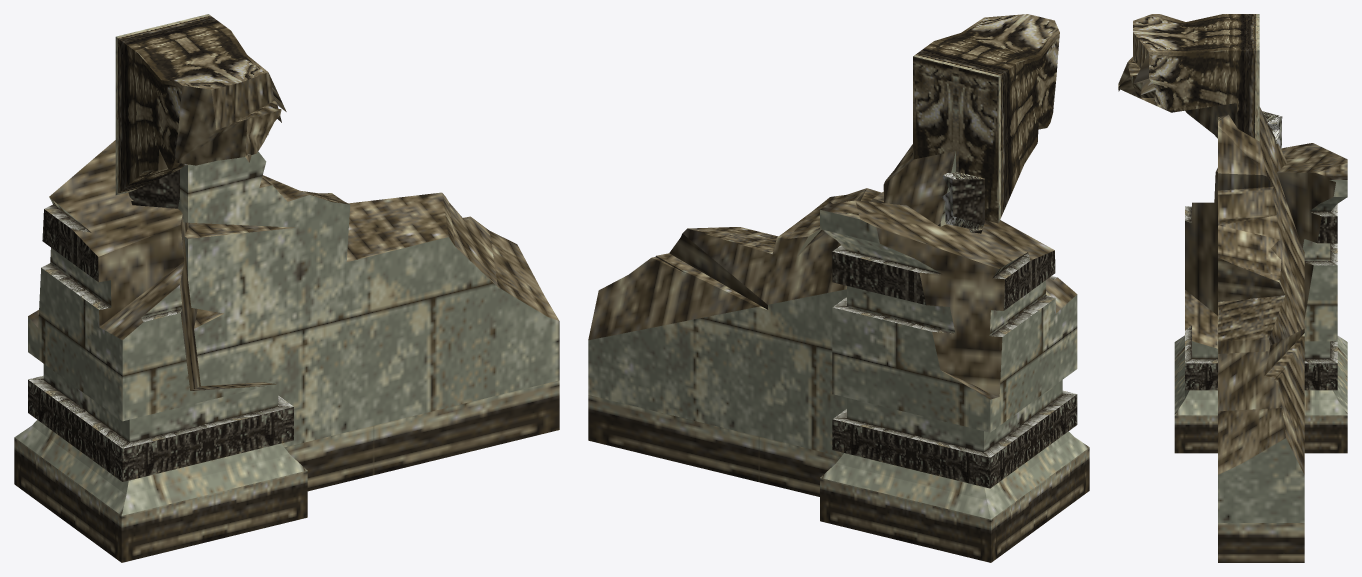
File: PSX_ModularDamagedDungeon.fbx
3 views of the same model, side by side, from view 1: azimuth 30°, elevation 25°; view 2: azimuth 150°, elevation 25°; view 3: azimuth 270°, elevation 25° (orthographic). The views are drawn at different scales.
Parts seen in each view (by area): view 1: RuinWall_Damaged, RuinBigPillar_Damaged, RuinHalfArche_Damaged, RuinPillar_Damaged; view 2: RuinBigPillar_Damaged, RuinWall_Damaged, RuinHalfArche_Damaged, RuinPillar_Damaged; view 3: RuinWall_Damaged, RuinBigPillar_Damaged, RuinHalfArche_Damaged, RuinPillar_Damaged.
Part boxes in pixels (x1,y1,x2,y2): RuinWall_Damaged: (178,151,559,491); RuinBigPillar_Damaged: (14,140,307,562); RuinHalfArche_Damaged: (115,14,286,195); RuinPillar_Damaged: (128,169,179,208); RuinBigPillar_Damaged: (820,200,1089,562); RuinWall_Damaged: (588,144,955,496); RuinHalfArche_Damaged: (913,14,1059,223); RuinPillar_Damaged: (941,171,984,233); RuinWall_Damaged: (1218,107,1304,562); RuinBigPillar_Damaged: (1174,143,1347,453); RuinHalfArche_Damaged: (1118,14,1259,141); RuinPillar_Damaged: (1262,111,1282,149).
Size of the model in its own units: 500 by 490 by 265.
Materials: 1 (1 with a texture image).
